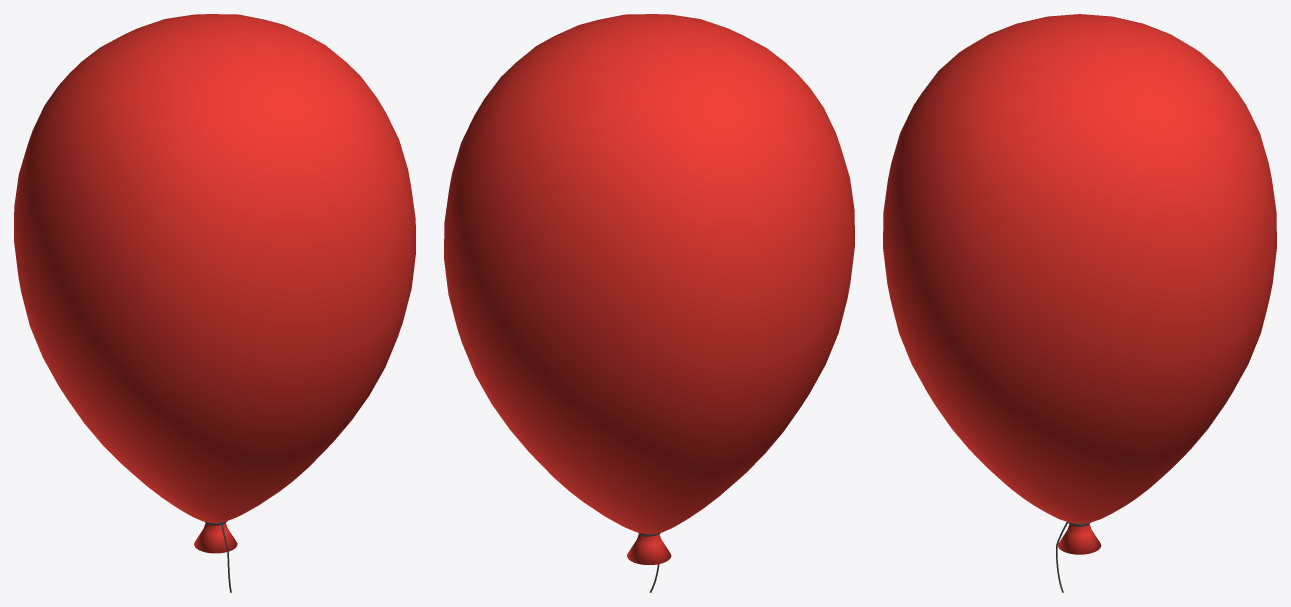
The model's file is balloon2.fbx.
The picture shows the model from 3 angles, left to right: view 1: azimuth 30°, elevation 25°; view 2: azimuth 150°, elevation 25°; view 3: azimuth 270°, elevation 25°; orthographic projection. The views are drawn at different scales.
Parts seen in each view (by area): view 1: Cube.003, Cylinder.006; view 2: Cube.003, Cylinder.006; view 3: Cube.003, Cylinder.006.
Boxes of the visible parts, x1,y1,x2,y2 form: Cube.003: (14,14,415,522); Cylinder.006: (194,523,237,553); Cube.003: (444,14,854,534); Cylinder.006: (627,534,671,564); Cube.003: (883,14,1276,523); Cylinder.006: (1058,524,1101,554).
Size of the model in its own units: 461 by 716 by 461.
